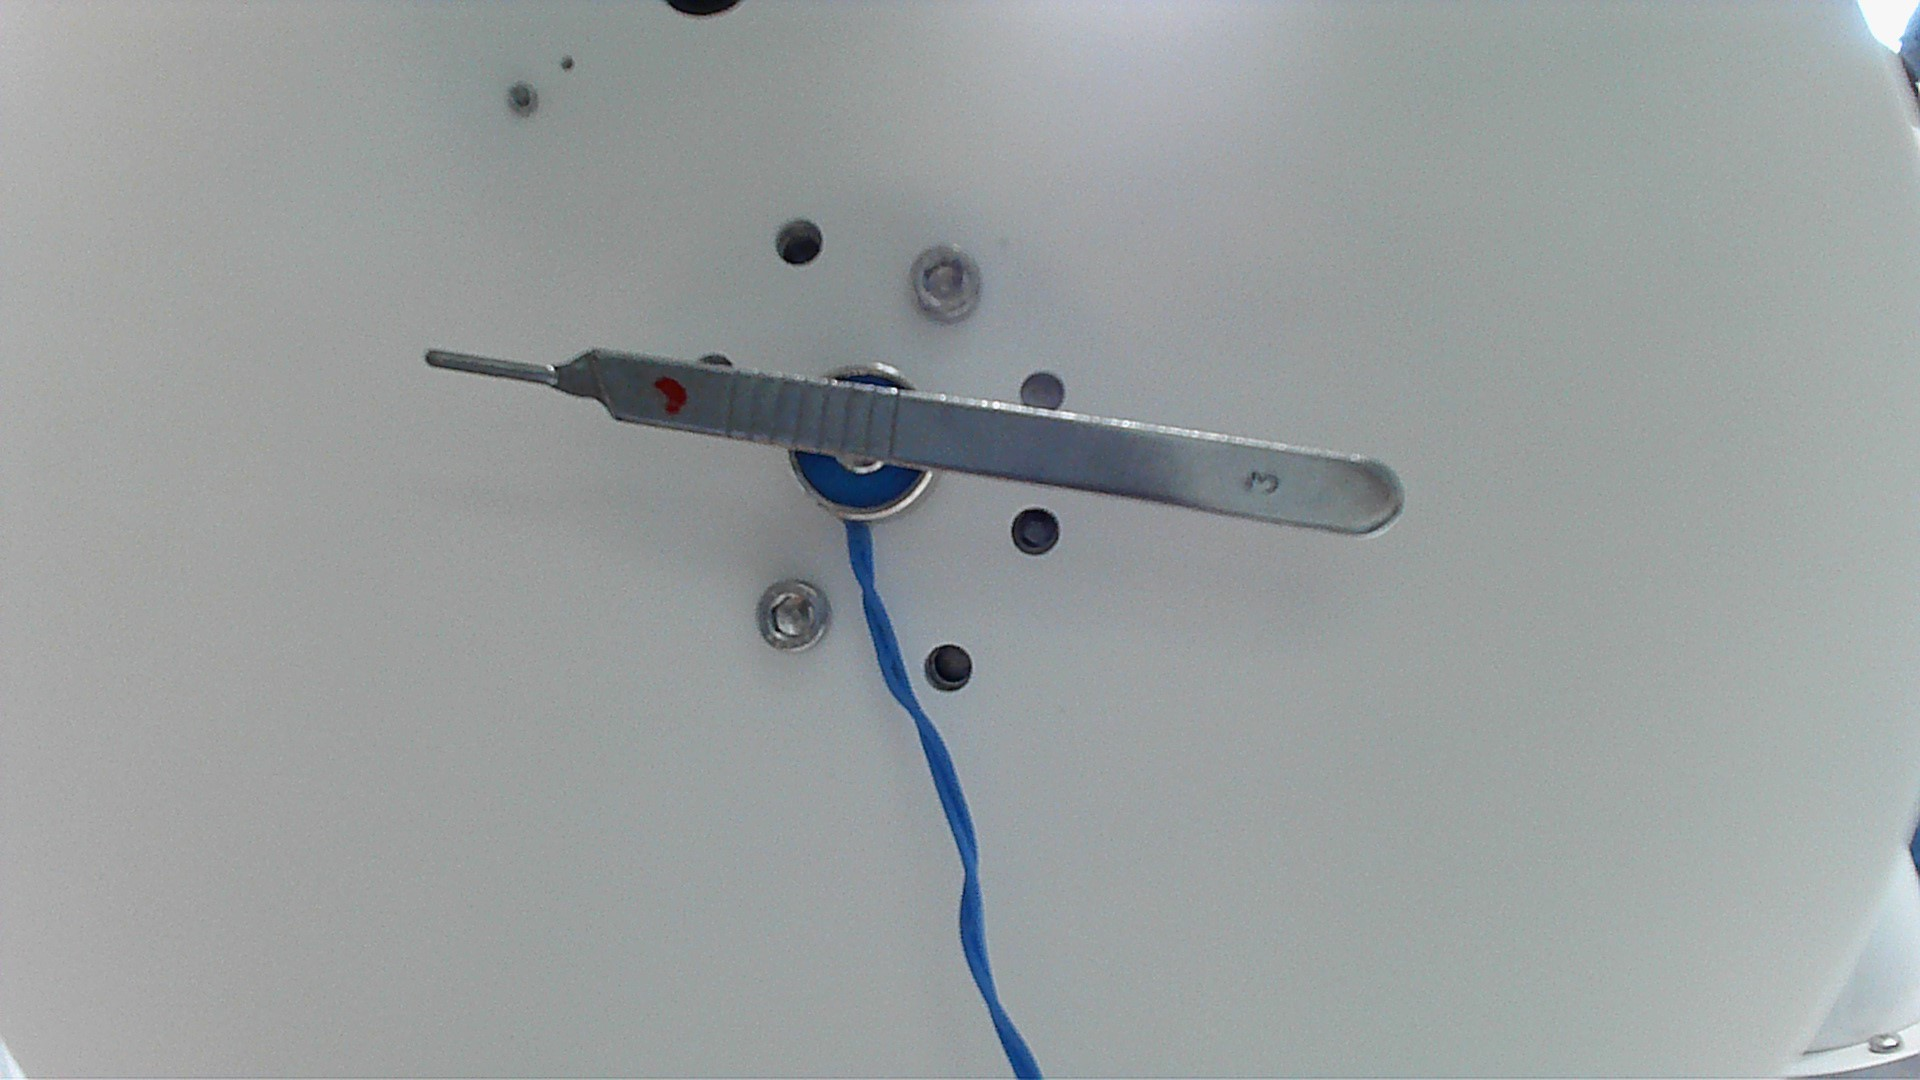Stain: (642, 369, 695, 430)
